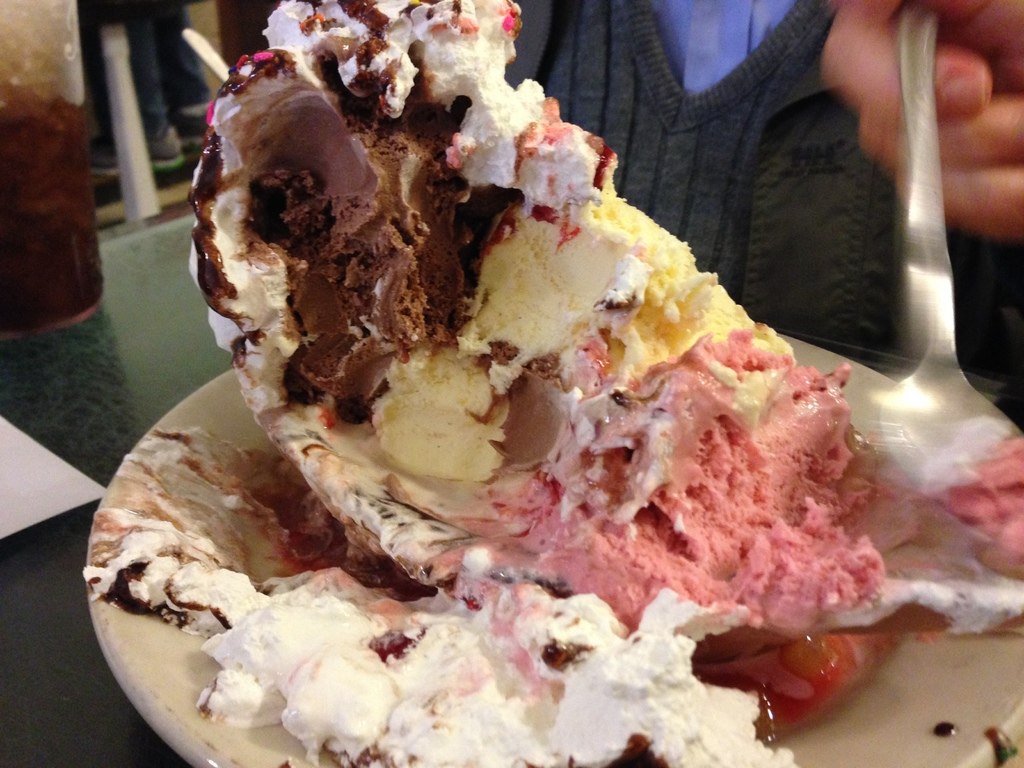face: (336, 0, 517, 90)
